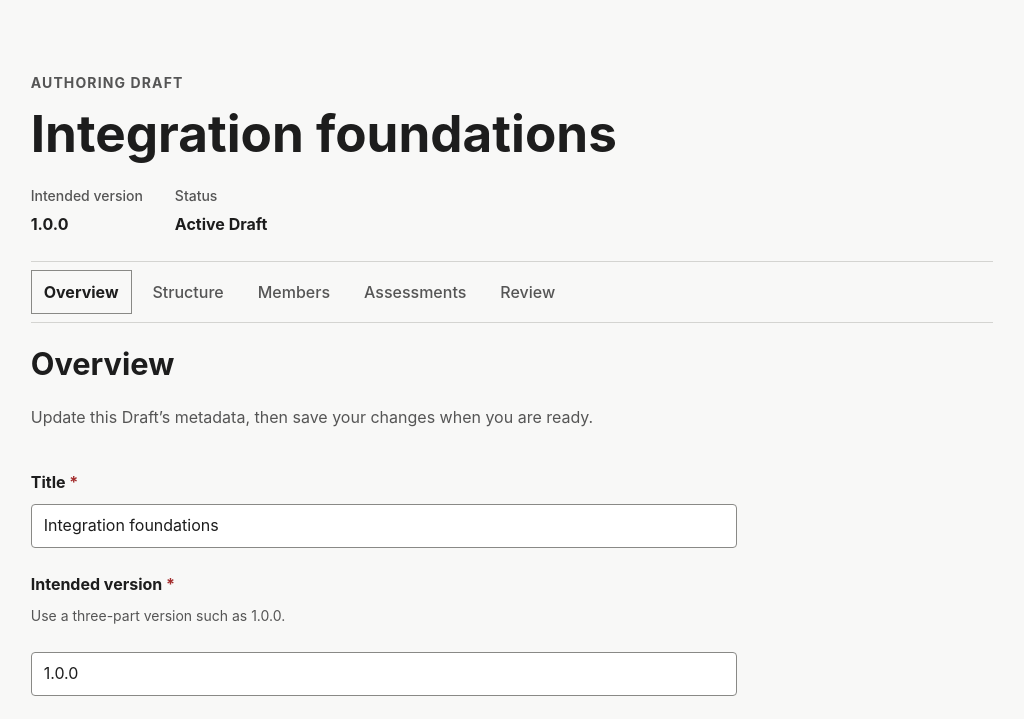
Test: AuthoringDraftShell › preserves user input on a stale revision and reloads only when explicitly requested
The width and height of the screenshot is (1024, 719).
Replace the text in the field labelled "Title *" with "My local title": (384, 526) [31, 504, 737, 548]
(page scrolled)
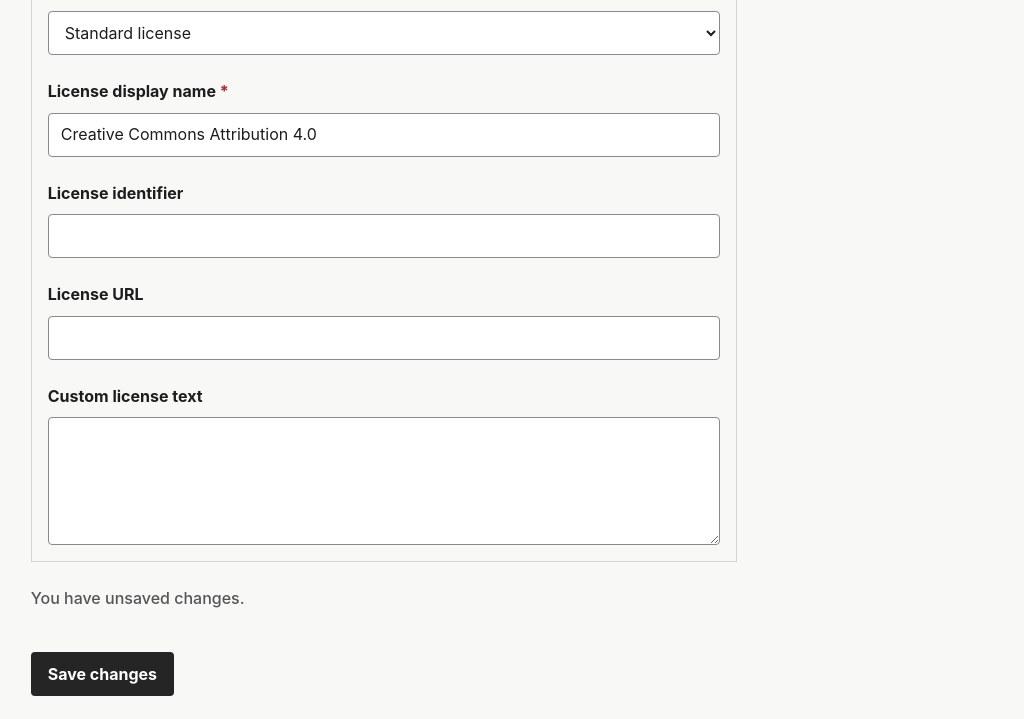
Click the button "Save changes": click(102, 674) [31, 652, 174, 696]
(page scrolled)
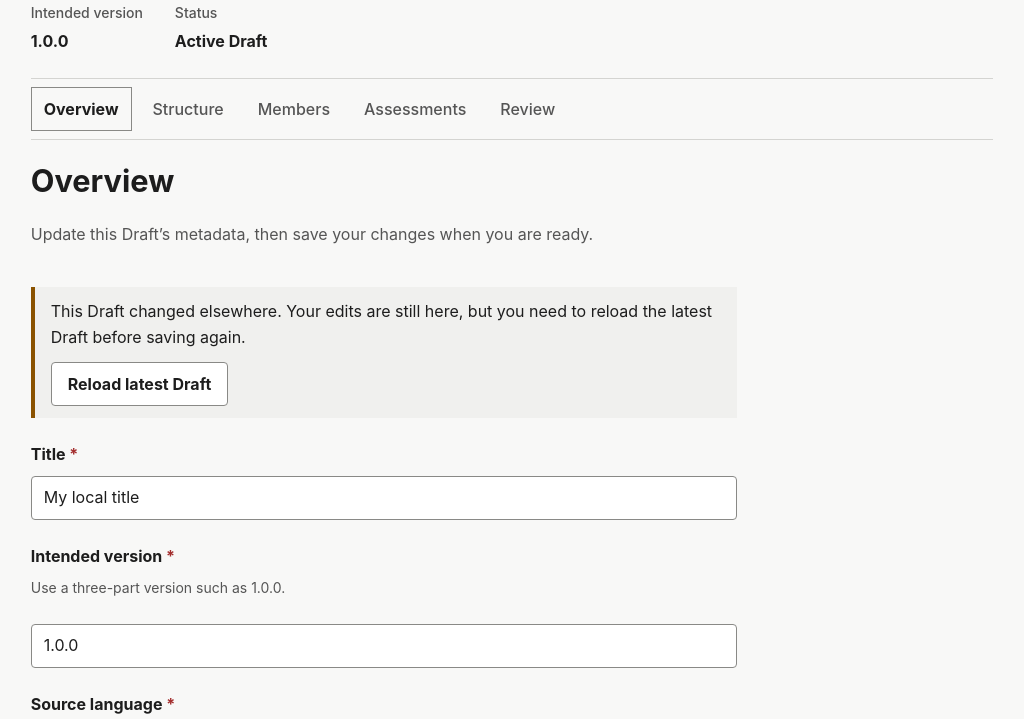
Expected: the text "Draft changed elsewhere" is shown, [51, 301, 712, 347]
Click the button "Reload latest Draft": click(139, 384) [51, 362, 228, 406]
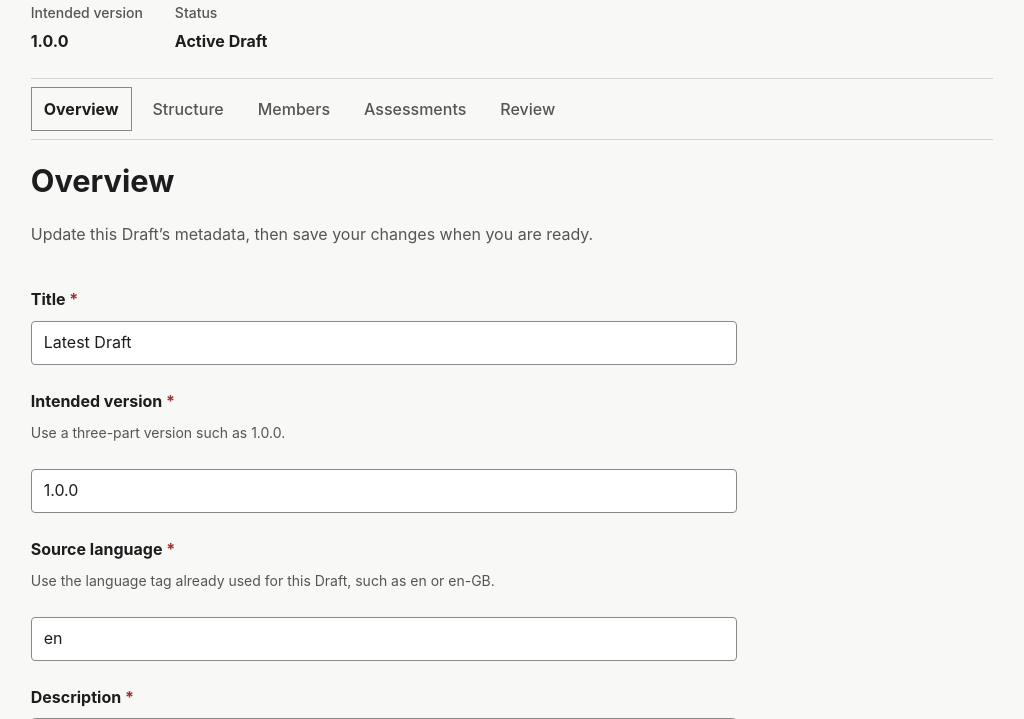
Expected: the field labelled "Title *" holds "Latest Draft", [31, 321, 737, 365]
